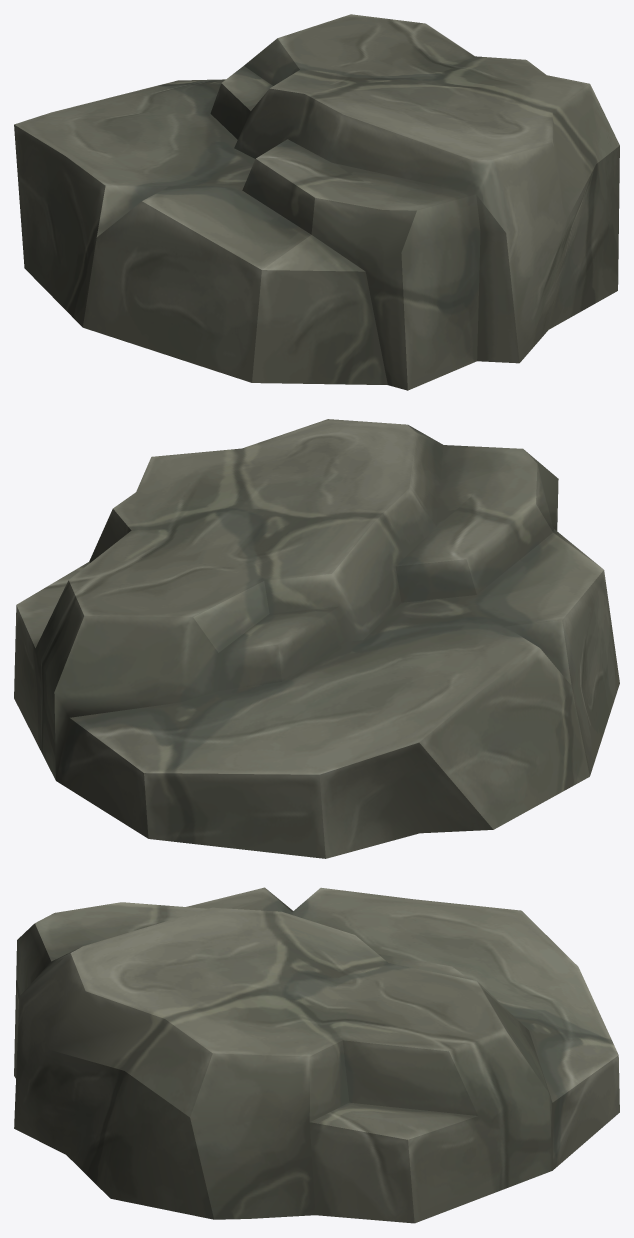
Rendered from Rock_09.fbx.
3 views of the same model, one above another, from view 1: azimuth 30°, elevation 25°; view 2: azimuth 150°, elevation 25°; view 3: azimuth 270°, elevation 25° (orthographic). The views are drawn at different scales.
Visible parts, largest first — view 1: polySurface563; view 2: polySurface563; view 3: polySurface563.
Part boxes in pixels (left/top/right/bottom): polySurface563: left=14, top=14, right=619, bottom=390; polySurface563: left=14, top=419, right=619, bottom=858; polySurface563: left=14, top=887, right=619, bottom=1223.
Bounding box in the file's own units: 136 × 50.54 × 149.
1 material, 1 textured.
